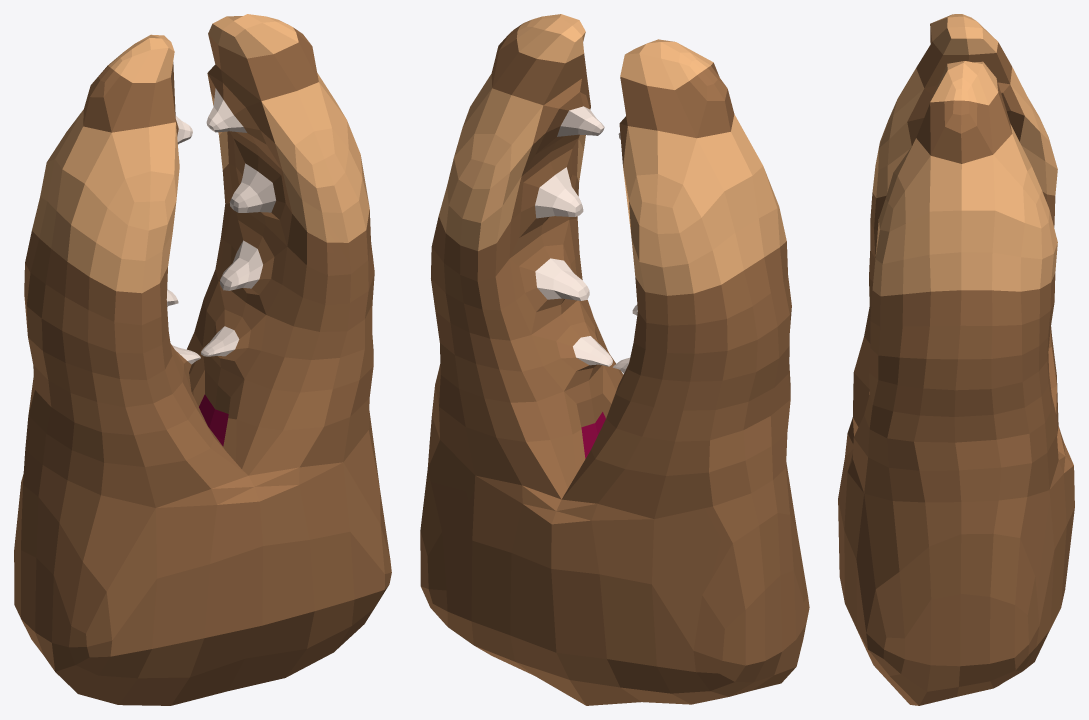
The model's file is MawPinch.fbx.
3 renders of one model, left to right at view 1: azimuth 30°, elevation 25°; view 2: azimuth 150°, elevation 25°; view 3: azimuth 270°, elevation 25°, orthographic. The views are drawn at different scales.
Parts seen in each view (by area): view 1: MawPinch - VoidBeat; view 2: MawPinch - VoidBeat; view 3: MawPinch - VoidBeat.
Part boxes in pixels (box(x1,y1,x2,y2)): MawPinch - VoidBeat: box(14, 14, 391, 705); MawPinch - VoidBeat: box(420, 14, 809, 705); MawPinch - VoidBeat: box(838, 14, 1074, 705).
Bounding box in the file's own units: 51.11 × 95.59 × 32.72.
